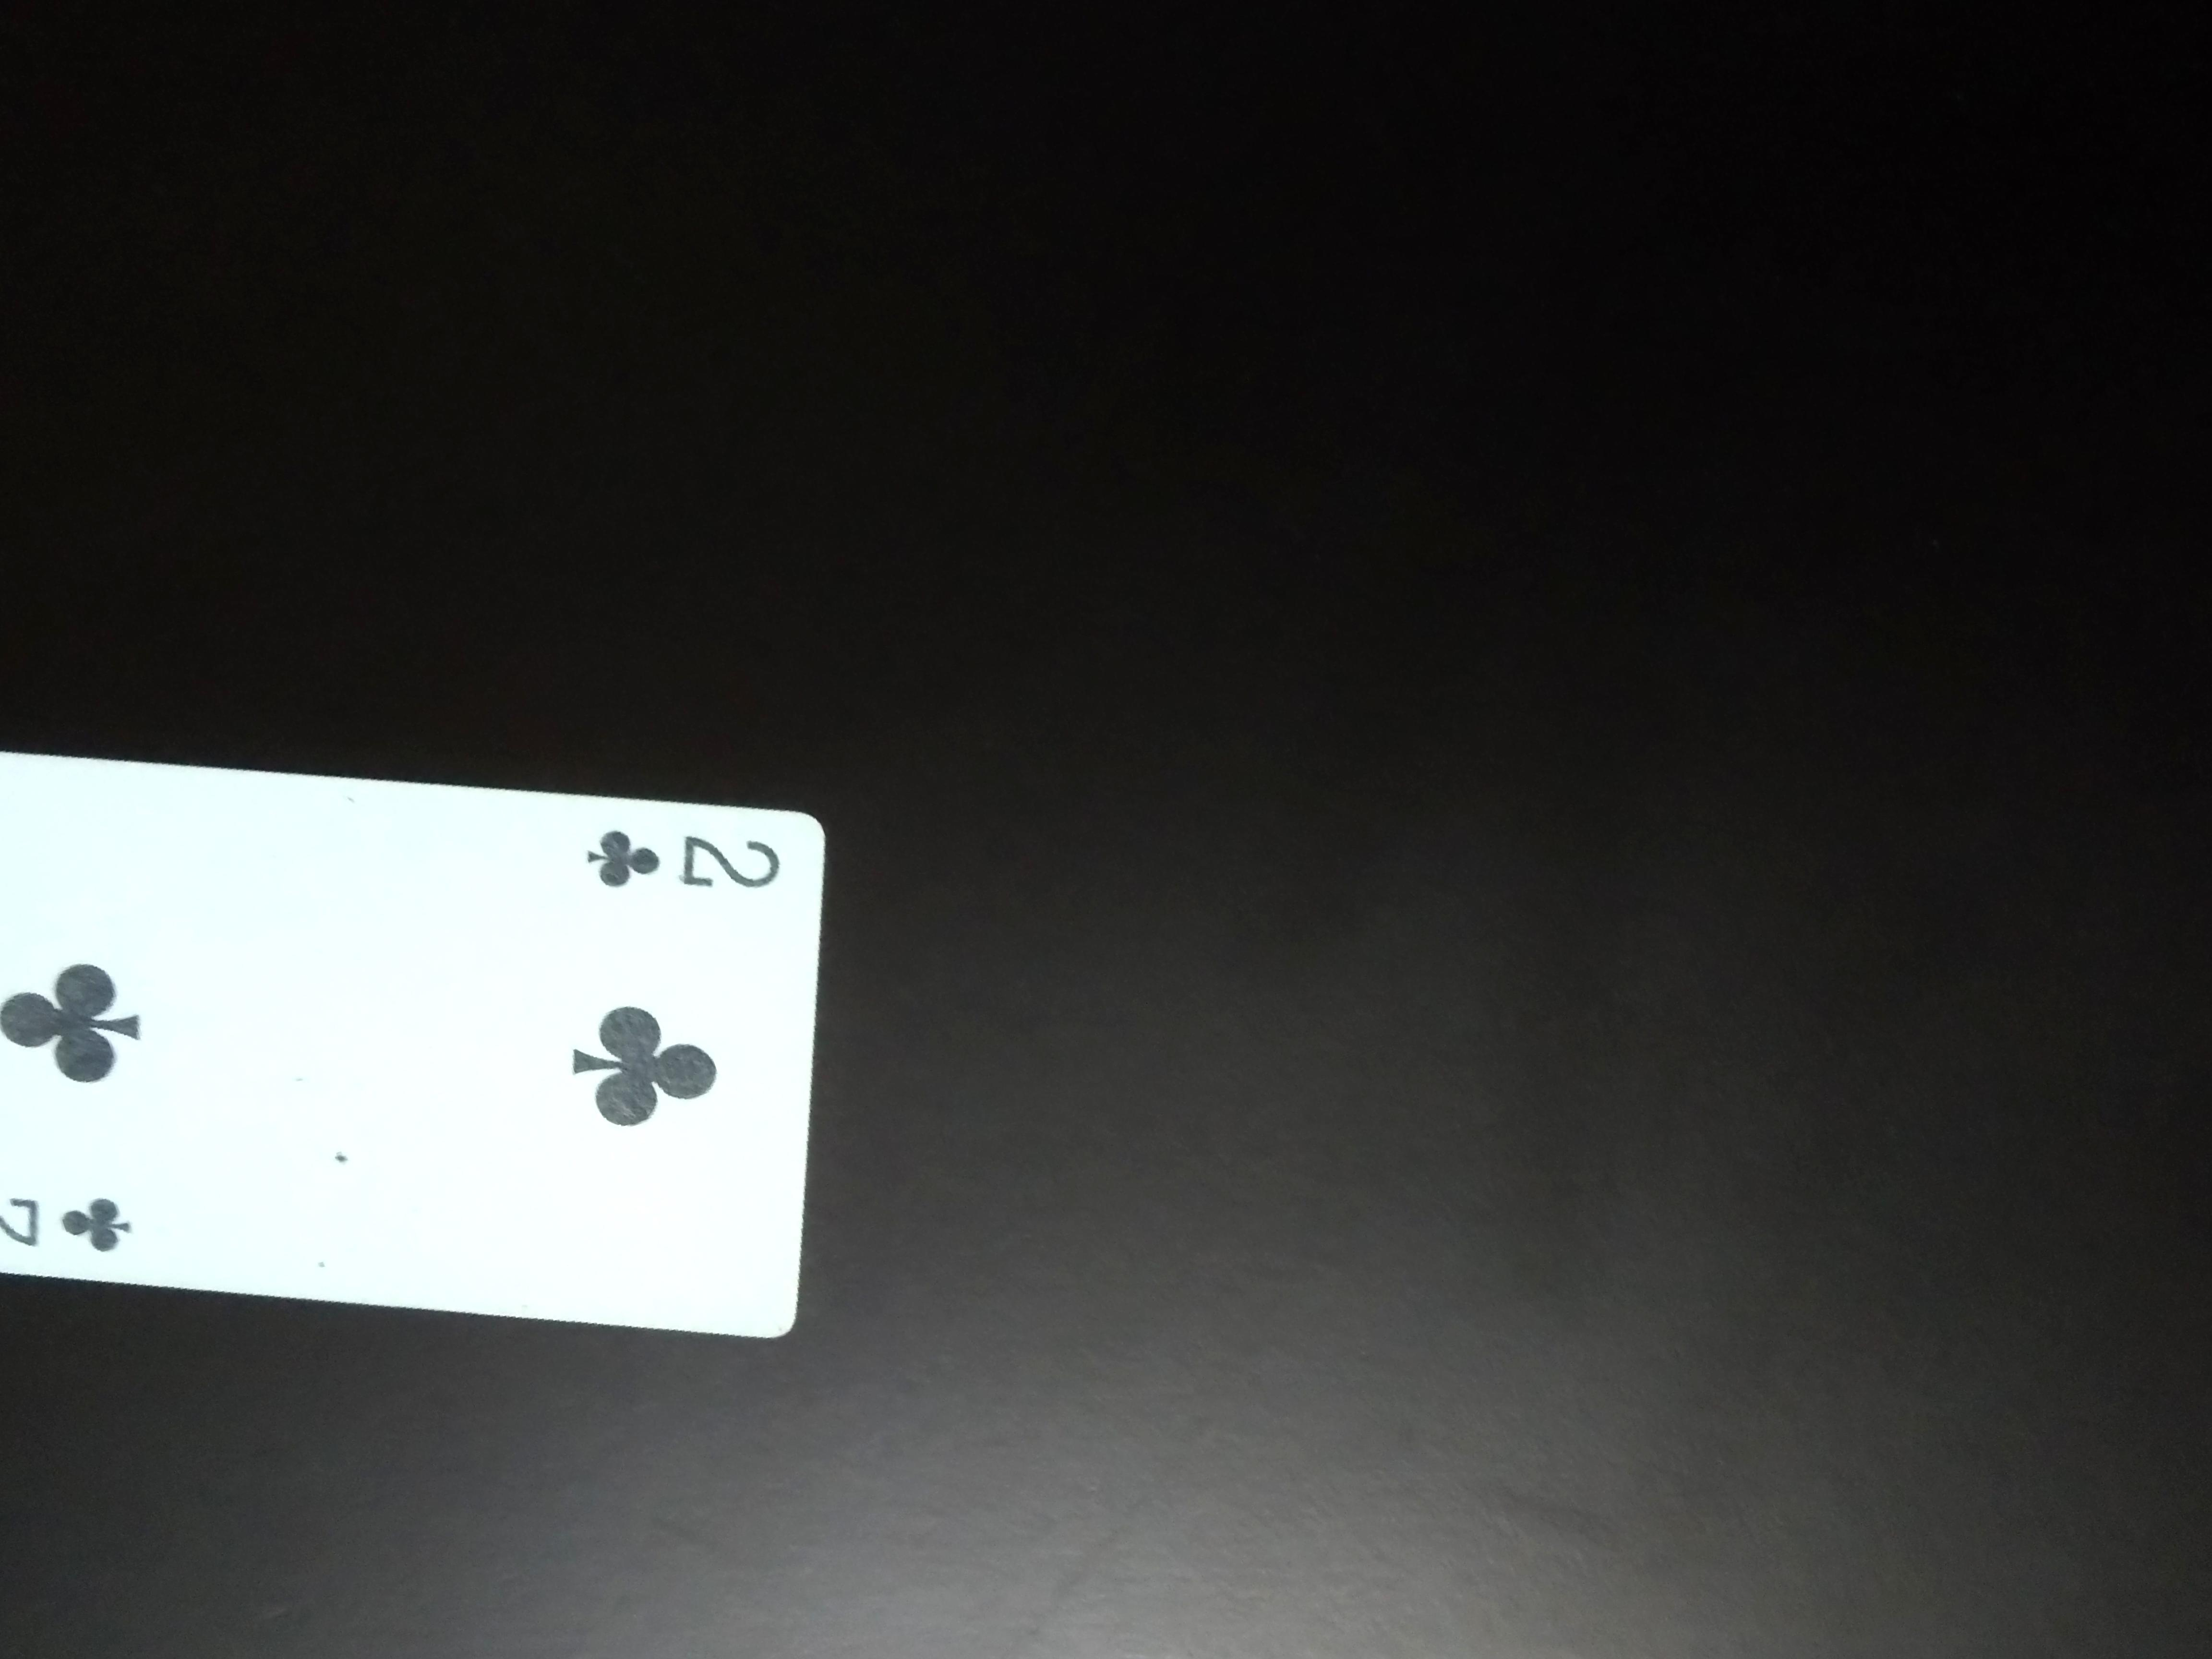2C: (550, 829, 784, 910)
